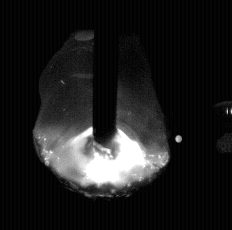arame: (93, 0, 118, 144)
poca: (32, 0, 166, 230)
